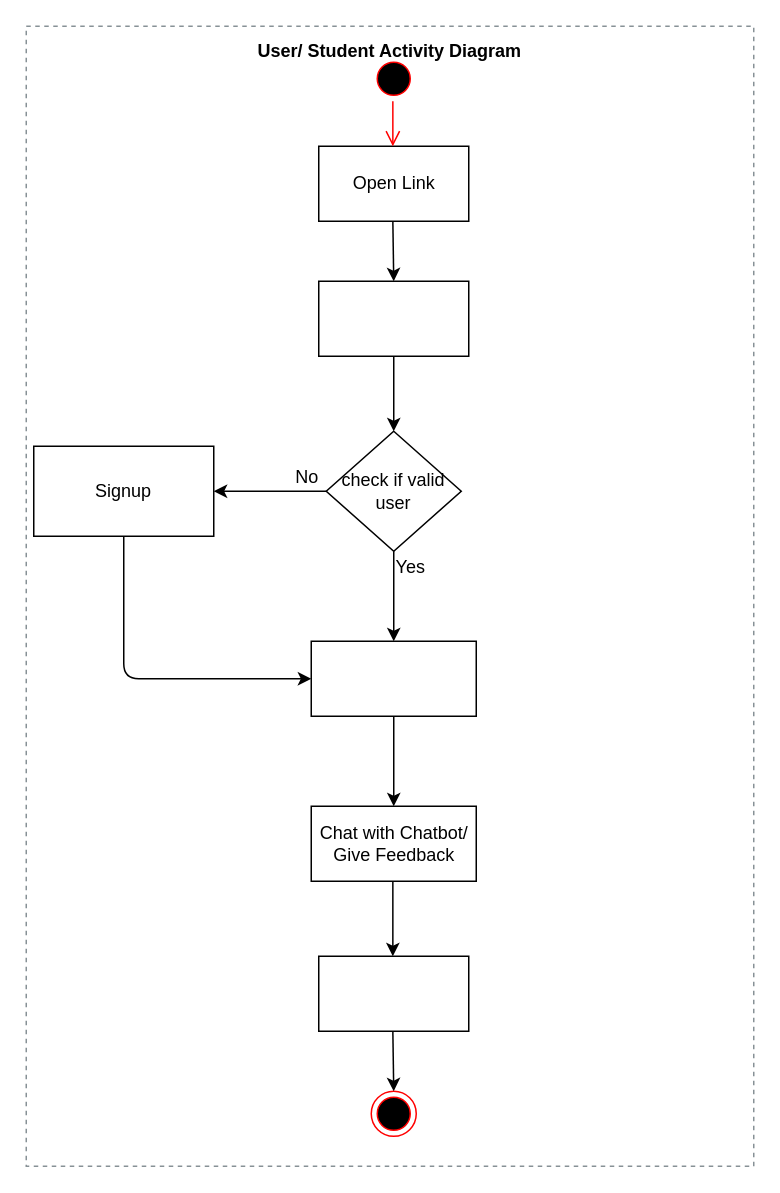
The diagram is 780 pixels wide and 1193 high, and some of its shapes have lost their labels. Here are the shapes that lost their labels. From the top down, the box of each, then its label:
(317, 280, 469, 356): Login
(310, 640, 476, 716): Home Page
(317, 955, 469, 1031): LogOut
